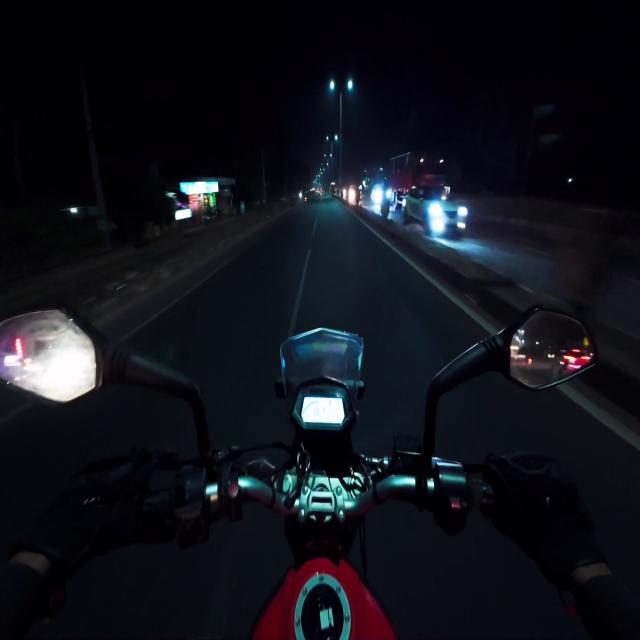car: (404, 186, 467, 237)
motorcycle: (0, 308, 596, 639)
